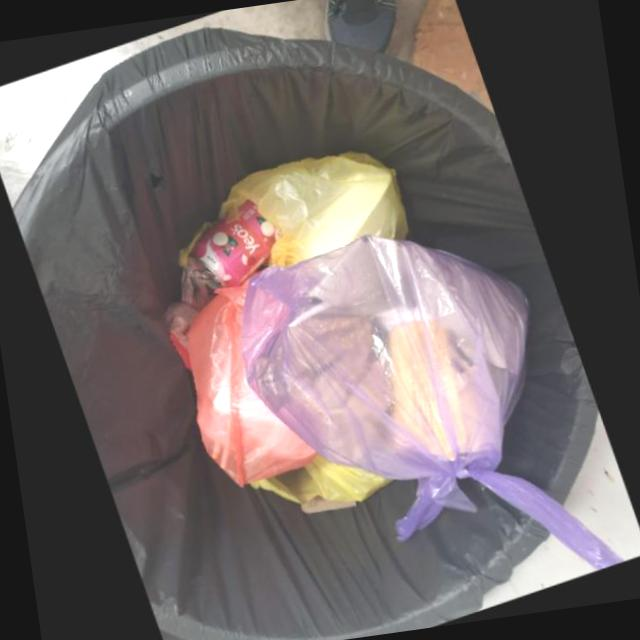nhom: (194, 198, 285, 288)
tui_ni_long: (242, 232, 628, 570), (189, 281, 318, 485), (221, 150, 411, 266), (258, 452, 389, 511)
